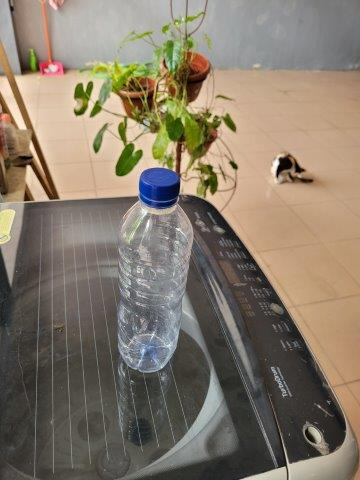botolplastik: (118, 169, 193, 373)
